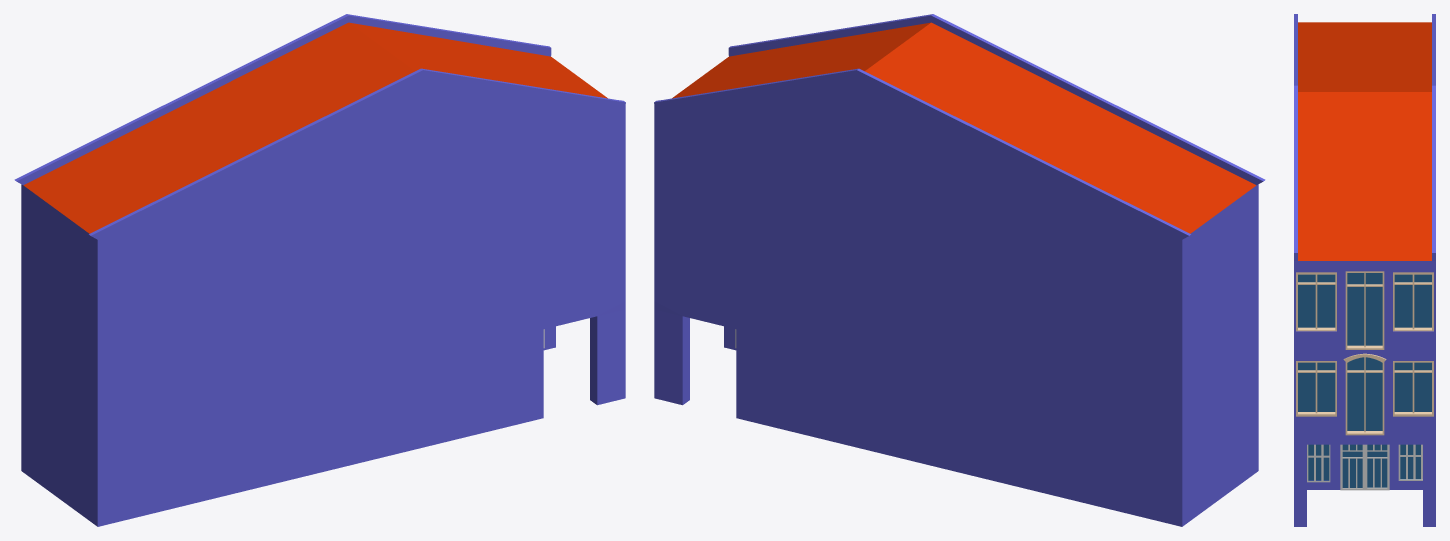
The model's file is house6.fbx.
The picture shows the model from 3 angles, left to right: view 1: azimuth 30°, elevation 25°; view 2: azimuth 150°, elevation 25°; view 3: azimuth 270°, elevation 25°; orthographic projection. The views are drawn at different scales.
Visible parts, largest first — view 1: house6; view 2: house6; view 3: house6.
Part boxes in pixels (x1,y1,x2,y2): house6: [14, 14, 625, 526]; house6: [654, 14, 1265, 526]; house6: [1294, 14, 1435, 526].
Size of the model in its own units: 1208 by 813 by 299.
